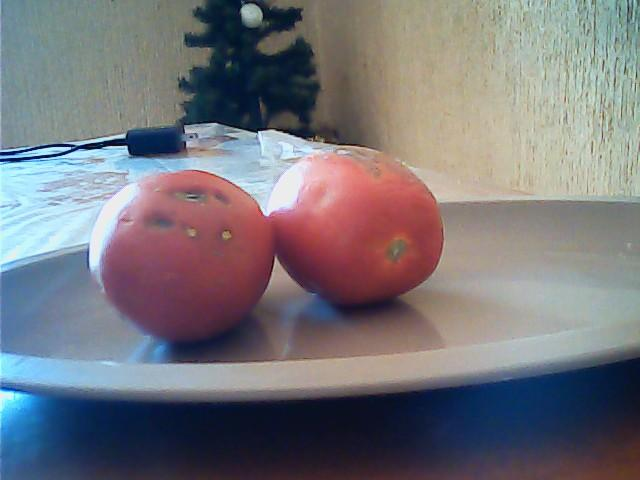defectuoso: (89, 170, 274, 347), (265, 144, 448, 317)
